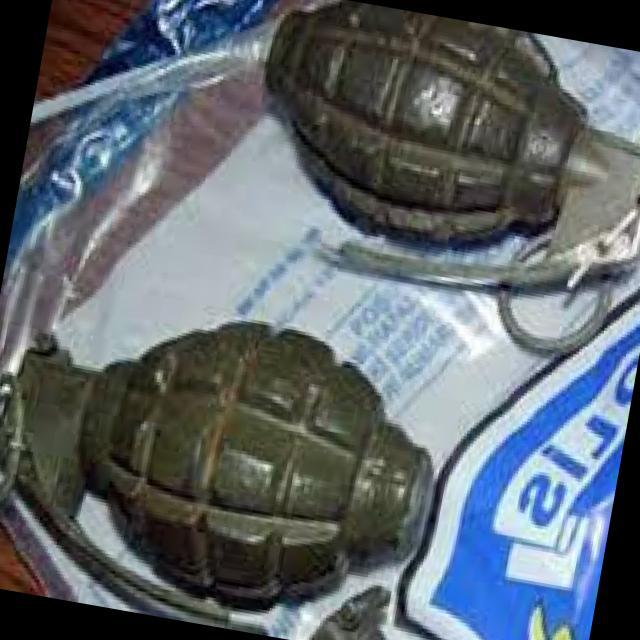grenade: (0, 270, 464, 640), (201, 0, 640, 364)
